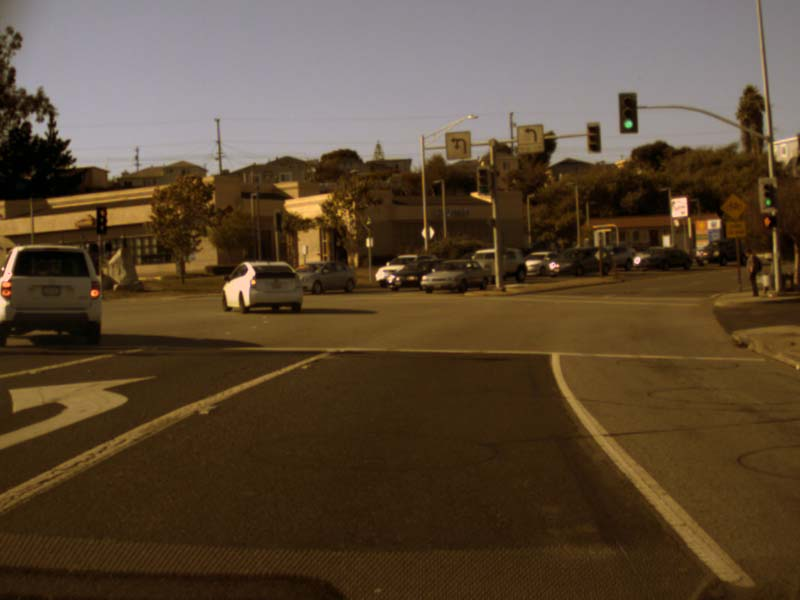Green: (618, 91, 636, 132), (759, 178, 777, 212), (476, 166, 489, 192)
